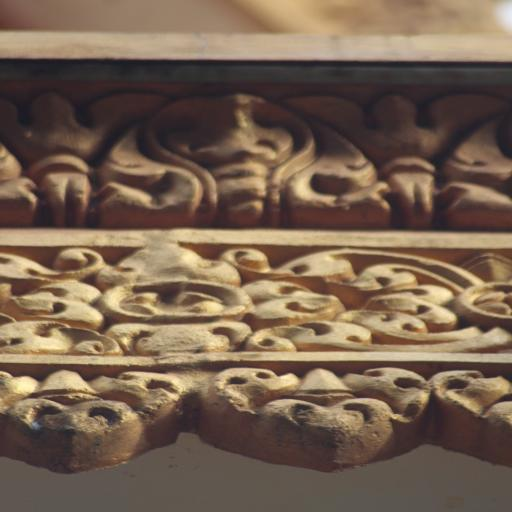hoa: (0, 238, 333, 358), (337, 241, 512, 357)
la: (102, 79, 386, 225), (203, 367, 426, 472), (0, 372, 204, 465), (386, 86, 512, 228), (0, 73, 94, 230), (425, 367, 512, 476)
